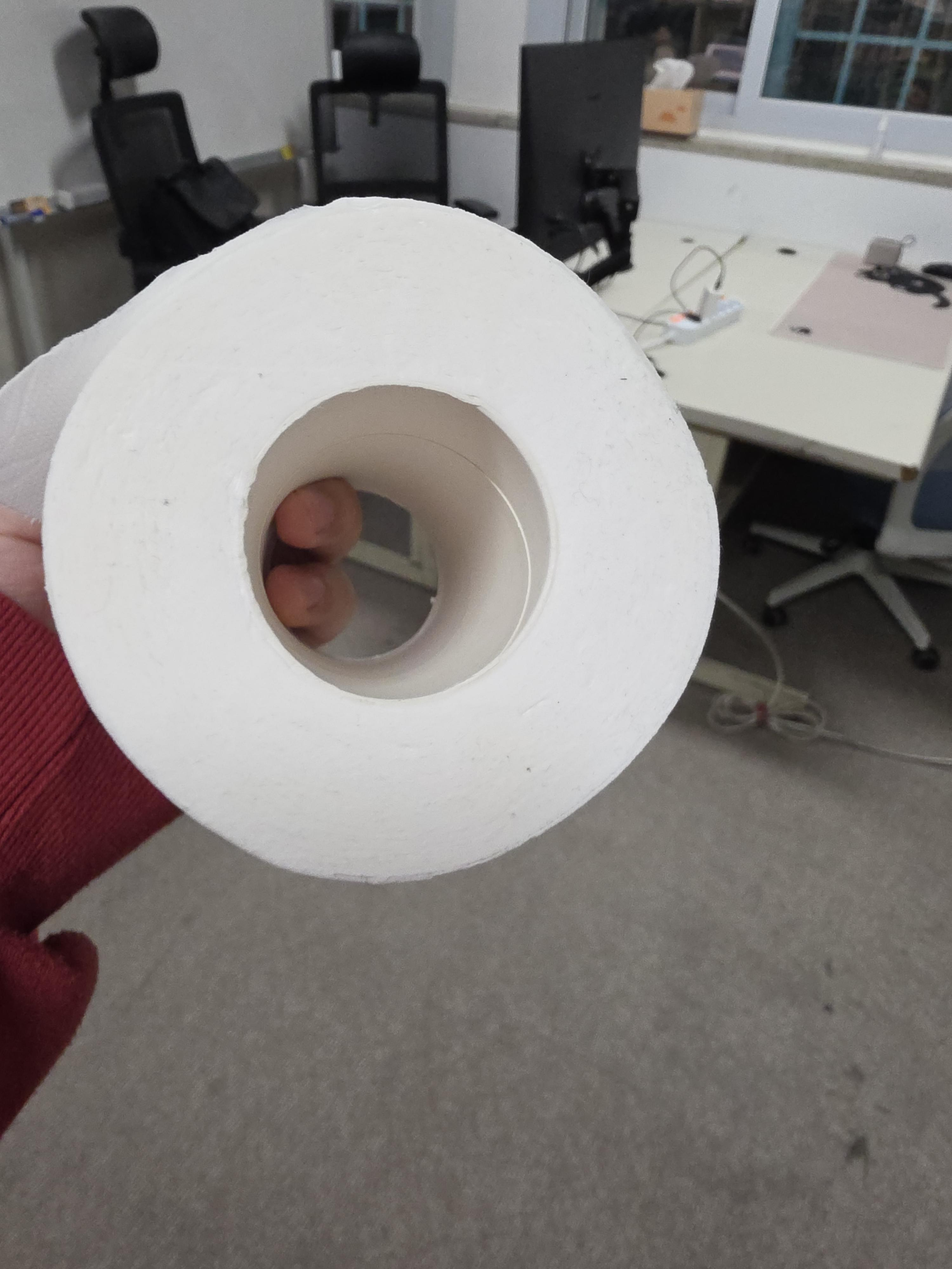tissue: (0, 196, 721, 885), (641, 57, 704, 136)
